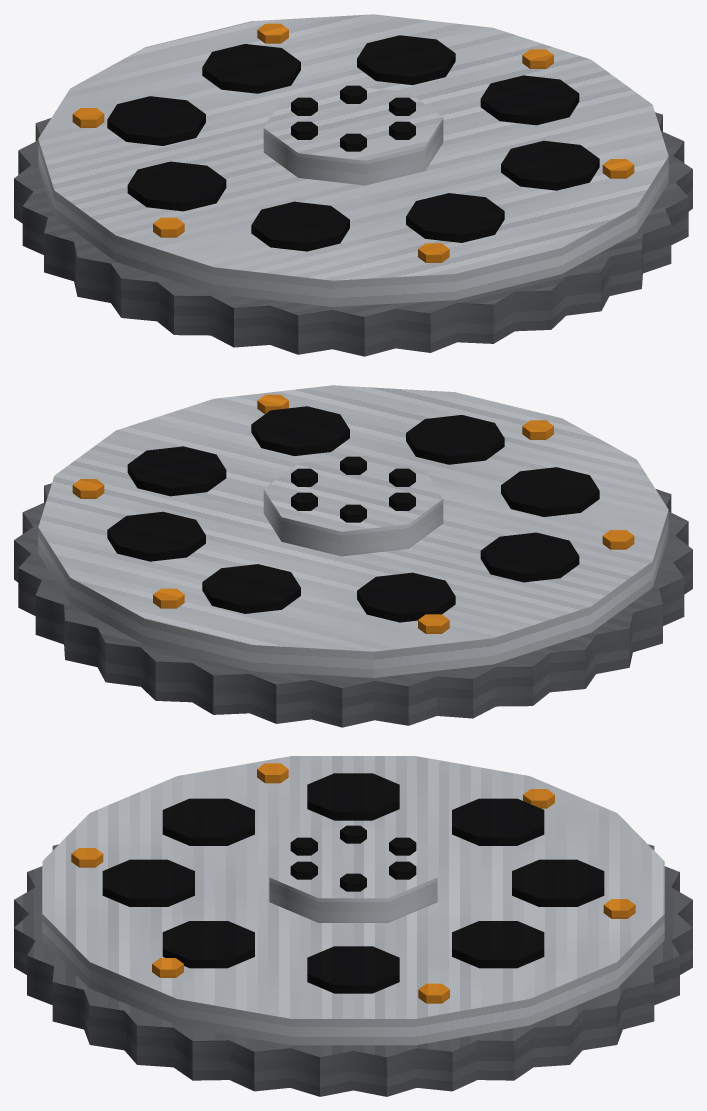
Rendered from volante_motor_n3.glb.
3 views of the same model, one above another, from view 1: azimuth 30°, elevation 25°; view 2: azimuth 150°, elevation 25°; view 3: azimuth 270°, elevation 25° (orthographic).
Parts seen in each view (by area): view 1: volante_motor_n3; view 2: volante_motor_n3; view 3: volante_motor_n3.
Boxes of the visible parts, bbox=[...] form: volante_motor_n3: bbox=[14, 14, 692, 356]; volante_motor_n3: bbox=[14, 385, 692, 727]; volante_motor_n3: bbox=[14, 756, 692, 1096].
Bounding box in the file's own units: 0.2986 × 0.048 × 0.2986.
2 materials, 2 textured.
